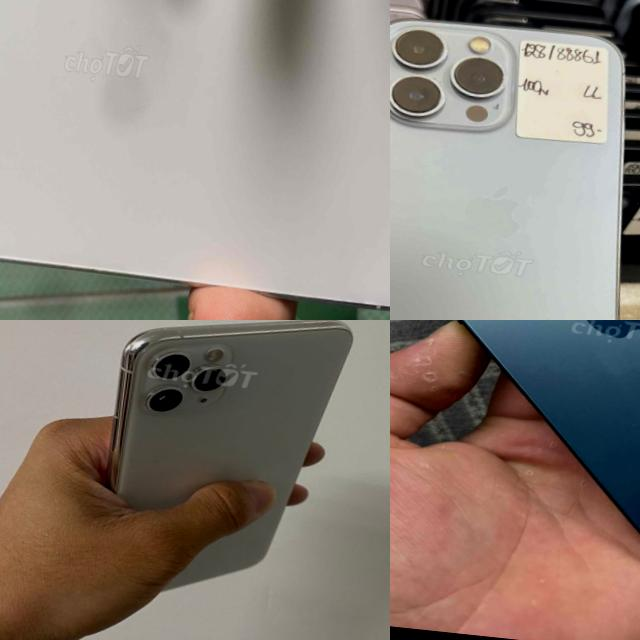gen_11: (107, 320, 350, 587)
gen_12_13: (0, 0, 390, 320), (390, 3, 640, 320), (390, 320, 640, 582)
